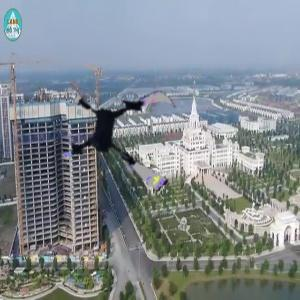drone: (63, 77, 187, 201)
